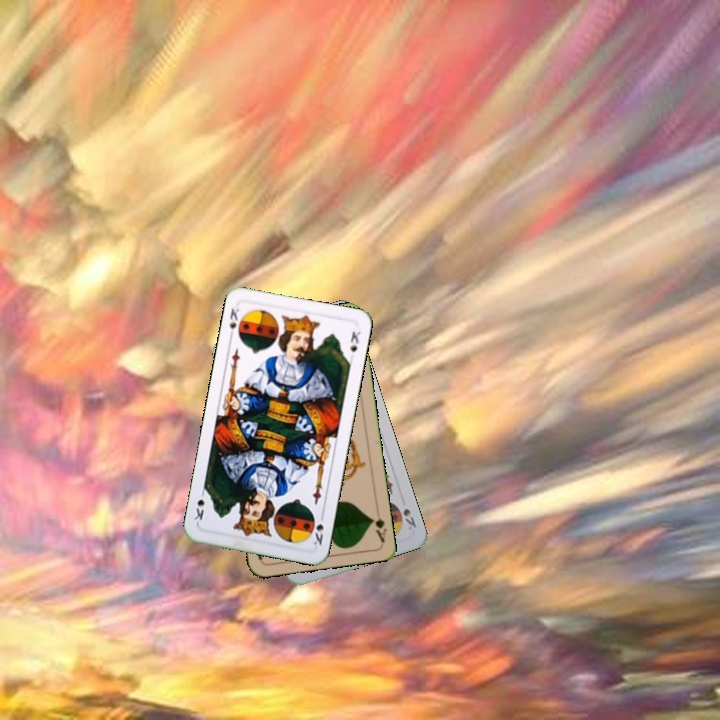GA: (367, 514, 389, 544)
SK: (308, 509, 326, 548), (225, 304, 242, 341), (399, 504, 419, 533)
